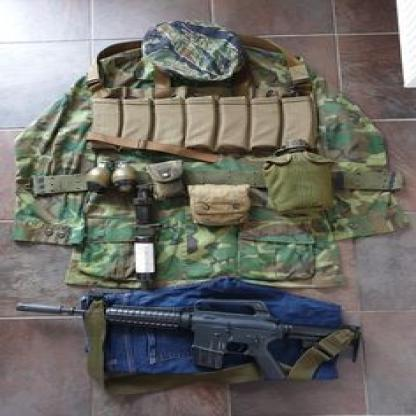Grenade: (82, 155, 113, 194), (111, 160, 140, 197)
Gun: (10, 296, 365, 386)
Knife: (128, 193, 164, 294)
